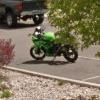Motorcycle: (23, 24, 84, 68)
